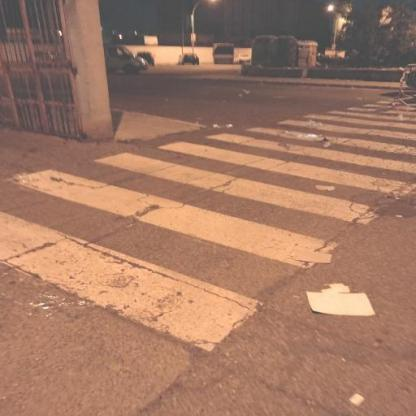crosswalk: (0, 148, 393, 273)
